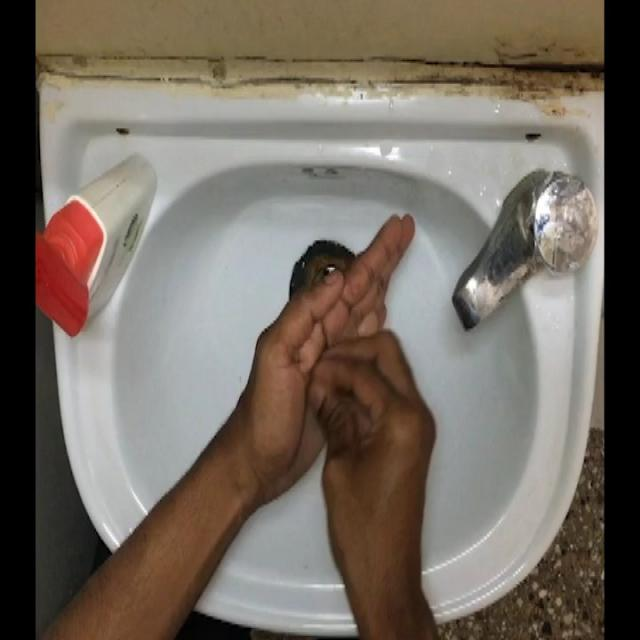step_6: (245, 204, 438, 566)
